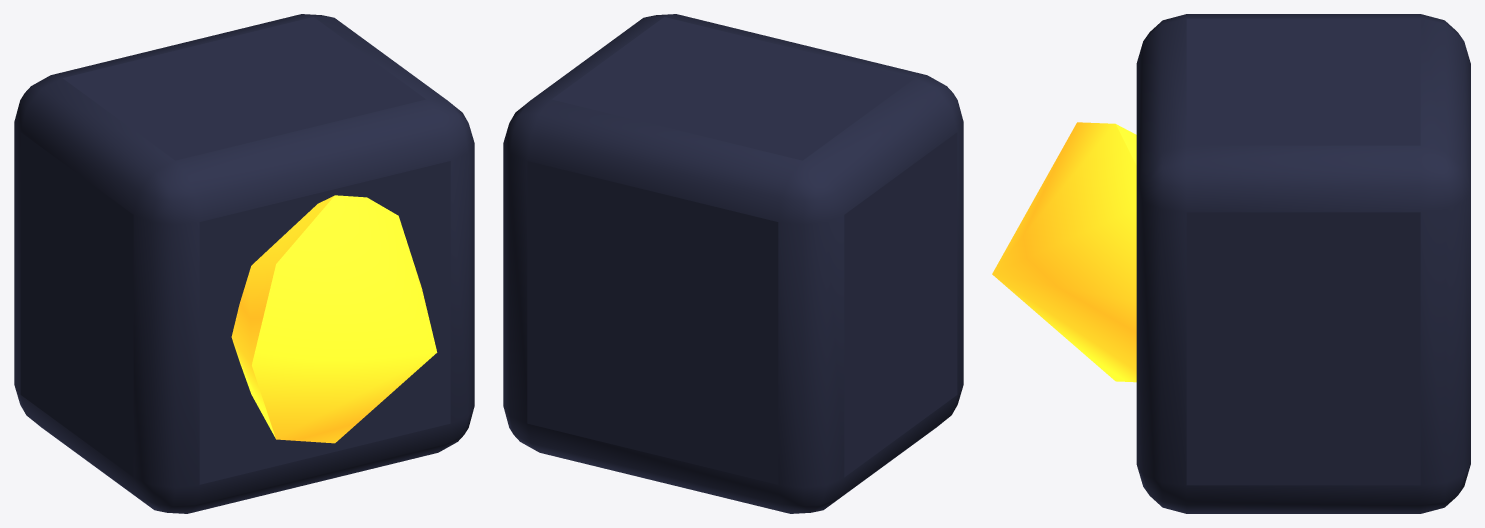
The model's file is drahokam_3.glb.
3 renders of one model, left to right at view 1: azimuth 30°, elevation 25°; view 2: azimuth 150°, elevation 25°; view 3: azimuth 270°, elevation 25°, orthographic. The views are drawn at different scales.
Visible parts, largest first — view 1: drahokam_2_luzko, drahokam_2_m; view 2: drahokam_2_luzko; view 3: drahokam_2_luzko, drahokam_2_m.
Part boxes in pixels (x1,y1,x2,y2): drahokam_2_luzko: [14, 14, 474, 513]; drahokam_2_m: [231, 195, 437, 443]; drahokam_2_luzko: [503, 14, 963, 513]; drahokam_2_luzko: [1136, 14, 1470, 513]; drahokam_2_m: [992, 122, 1136, 382].
Bounding box in the file's own units: 0.96 × 0.96 × 1.15.
